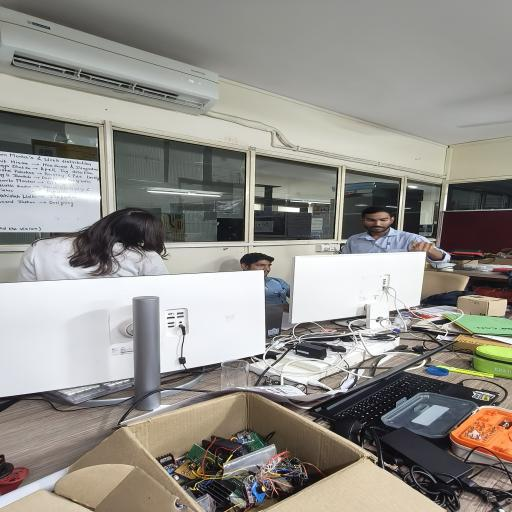survivor: (18, 208, 171, 282), (340, 206, 452, 264), (239, 252, 291, 307)
